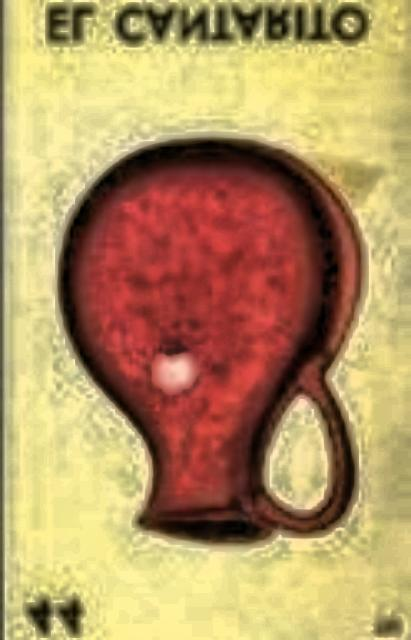El Cantarito: (3, 0, 411, 640)
